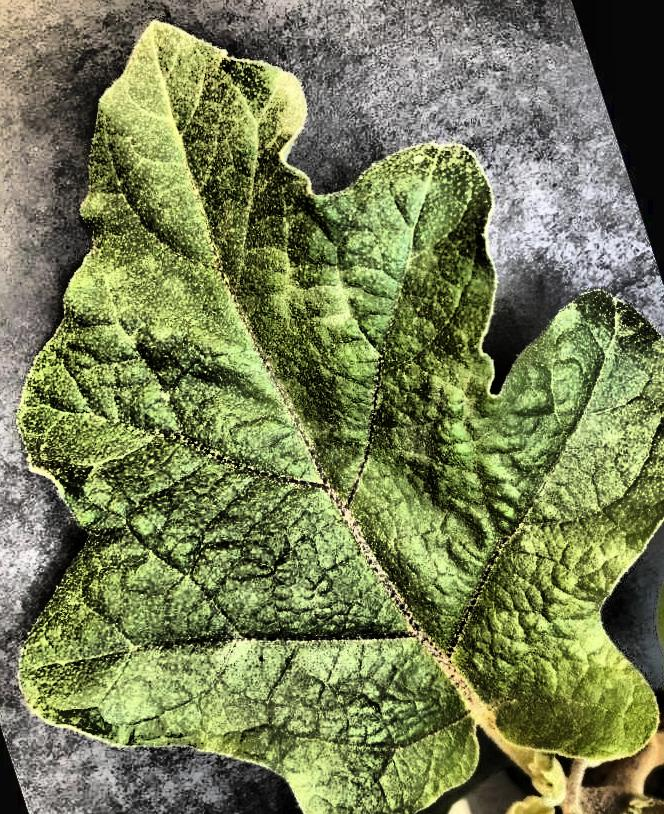HEALTHY: (1, 0, 664, 814)
